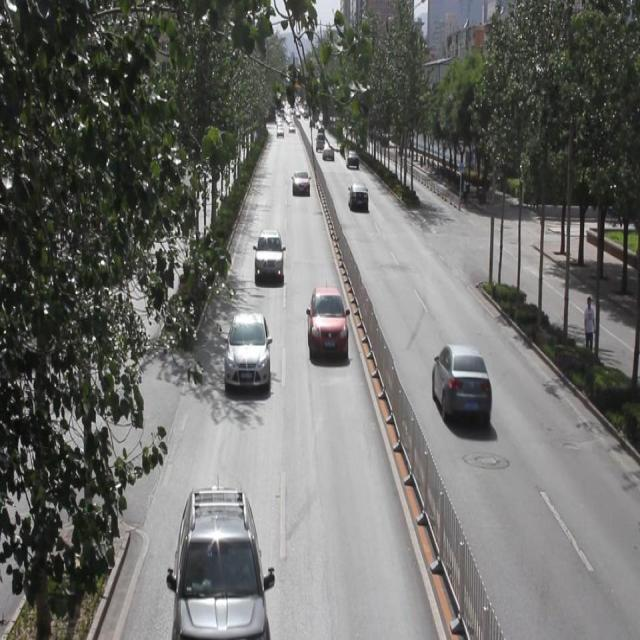car: (175, 487, 266, 640), (430, 342, 490, 426), (224, 310, 270, 390), (305, 286, 348, 362), (255, 229, 282, 282), (348, 182, 369, 211), (291, 168, 309, 196), (345, 150, 360, 168), (321, 142, 334, 160)
truck: (314, 134, 325, 150)
